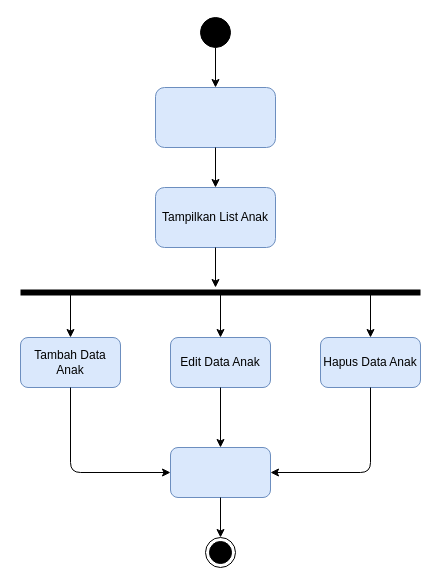
The diagram is 440 pixels wide and 585 high, and some of its shapes have lost their labels. The centre of each missing label's shape, as x and y in pixels:
Pilih Menu Data Anak: the point at 215,117
Update Database: the point at 220,472
